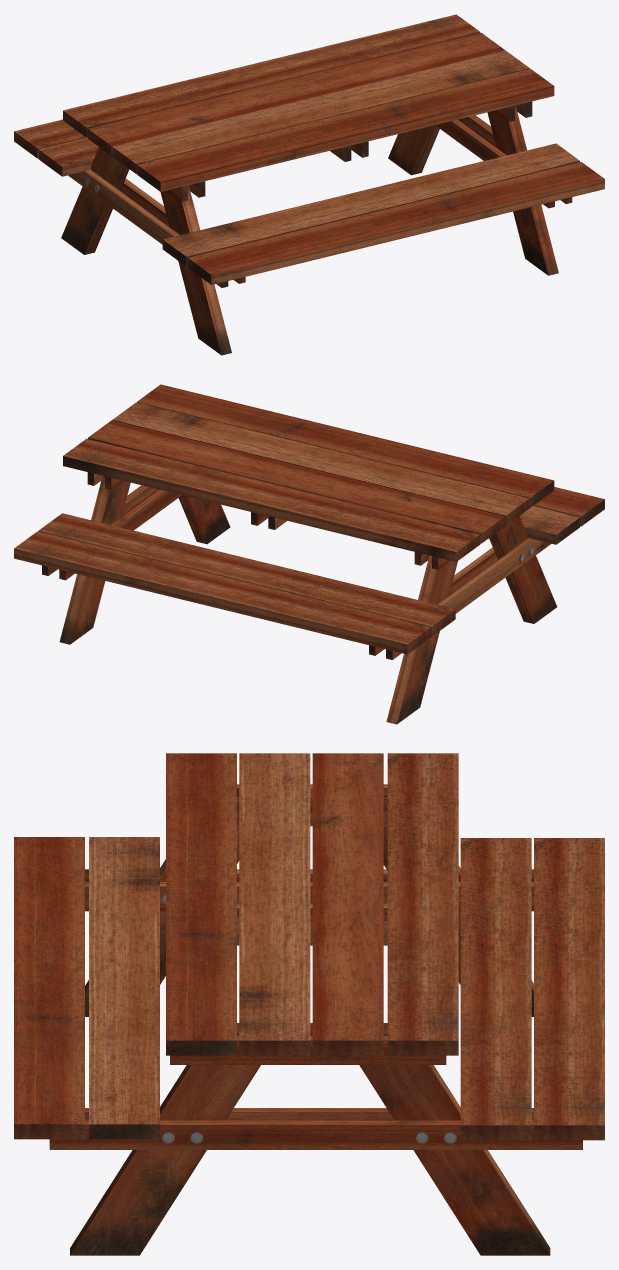
Rendered from park_table_low_poly.glb.
The picture shows the model from 3 angles, top to bottom: view 1: azimuth 30°, elevation 25°; view 2: azimuth 150°, elevation 25°; view 3: azimuth 270°, elevation 25°; orthographic projection. The views are drawn at different scales.
Parts seen in each view (by area): view 1: g; view 2: g; view 3: g.
Boxes of the visible parts, bbox=[...] form: g: bbox=[14, 14, 604, 355]; g: bbox=[14, 384, 604, 724]; g: bbox=[14, 753, 604, 1255].
Bounding box in the file's own units: 2 × 0.7632 × 1.74.
1 material, 1 textured.
